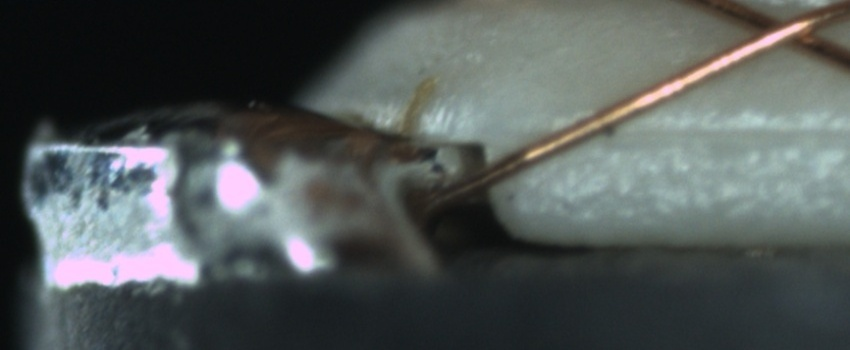CL: (720, 1, 839, 58)
DL: (559, 100, 844, 162)
